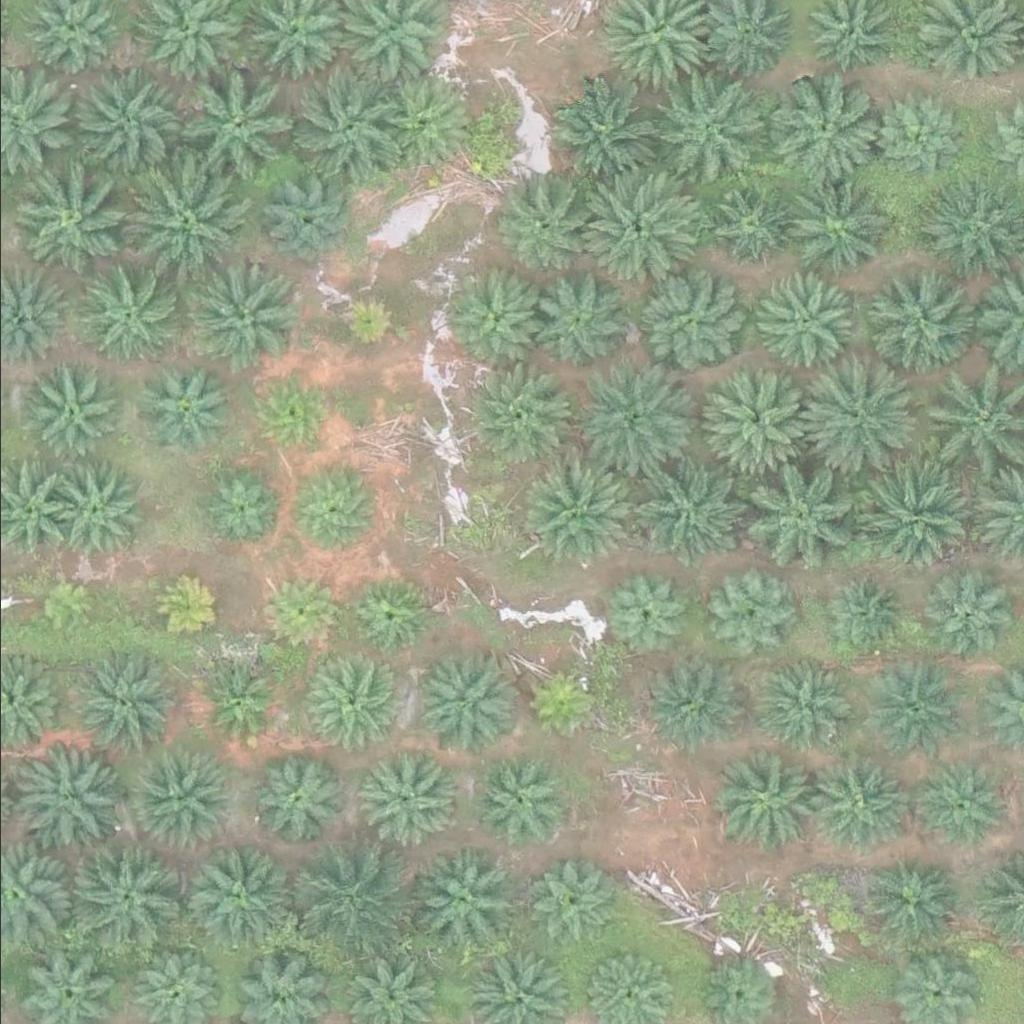Kelapa_Sawit: (69, 647, 183, 760), (793, 365, 907, 478), (72, 843, 185, 956), (4, 745, 117, 858), (69, 66, 182, 179), (408, 841, 521, 954), (285, 842, 398, 955), (853, 459, 966, 572), (737, 452, 850, 565), (663, 67, 776, 180), (546, 80, 659, 193), (122, 163, 235, 276), (173, 69, 286, 182), (621, 451, 735, 563), (517, 455, 631, 567), (460, 357, 574, 469), (764, 70, 878, 182), (13, 159, 126, 271), (572, 365, 685, 477), (699, 365, 812, 477), (863, 257, 976, 369), (775, 172, 888, 284), (587, 172, 700, 284), (186, 260, 299, 372), (290, 75, 403, 187), (129, 746, 230, 846), (45, 460, 146, 560), (132, 354, 233, 454), (16, 361, 117, 461), (76, 267, 177, 367), (803, 755, 904, 855), (711, 751, 812, 851), (471, 752, 572, 852), (361, 752, 462, 852), (238, 745, 339, 845), (755, 656, 856, 756), (646, 657, 747, 757), (409, 650, 510, 750), (301, 649, 402, 749), (749, 271, 850, 371), (637, 271, 738, 371), (528, 273, 629, 373), (489, 168, 590, 268), (372, 74, 473, 174), (188, 850, 288, 950), (853, 658, 953, 758), (443, 273, 543, 373), (518, 660, 606, 748), (290, 468, 378, 556), (198, 468, 286, 556), (258, 566, 346, 654), (347, 574, 435, 662), (527, 856, 615, 944), (920, 761, 1008, 849), (602, 569, 690, 657), (710, 573, 798, 661), (704, 176, 792, 264), (874, 93, 962, 181), (265, 181, 353, 269), (248, 369, 336, 456), (864, 857, 952, 944), (198, 659, 286, 746), (818, 571, 906, 658), (923, 571, 1011, 658), (148, 571, 224, 646), (332, 286, 395, 349), (32, 576, 95, 638)
